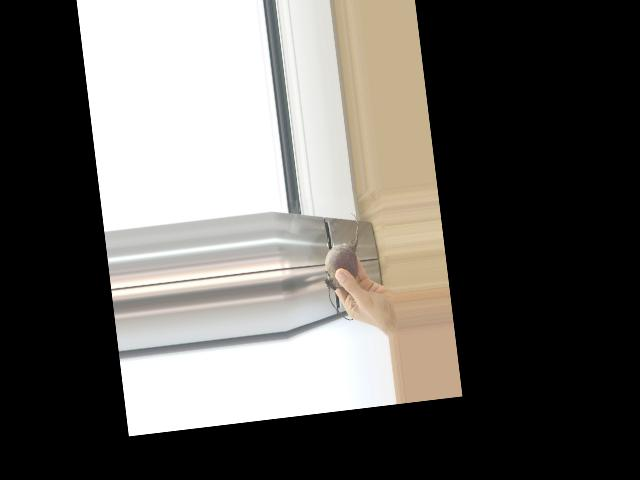beet: (317, 211, 369, 322)
